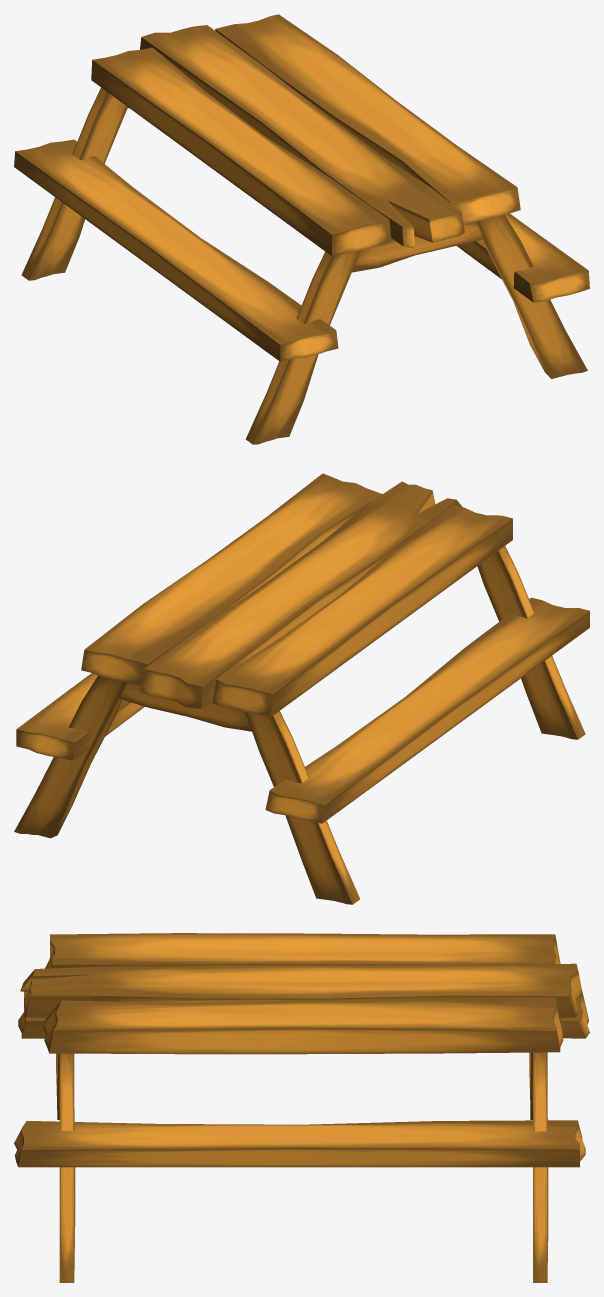
Rendered from picnicTable.fbx.
3 views of the same model, one above another, from view 1: azimuth 30°, elevation 25°; view 2: azimuth 150°, elevation 25°; view 3: azimuth 270°, elevation 25° (orthographic). The views are drawn at different scales.
Visible parts, largest first — view 1: plank004; view 2: plank004; view 3: plank004.
Boxes of the visible parts, x1,y1,x2,y2 form: plank004: (14,14,589,444); plank004: (14,473,589,904); plank004: (14,933,589,1282).
Bounding box in the file's own units: 197 × 116 × 277.
